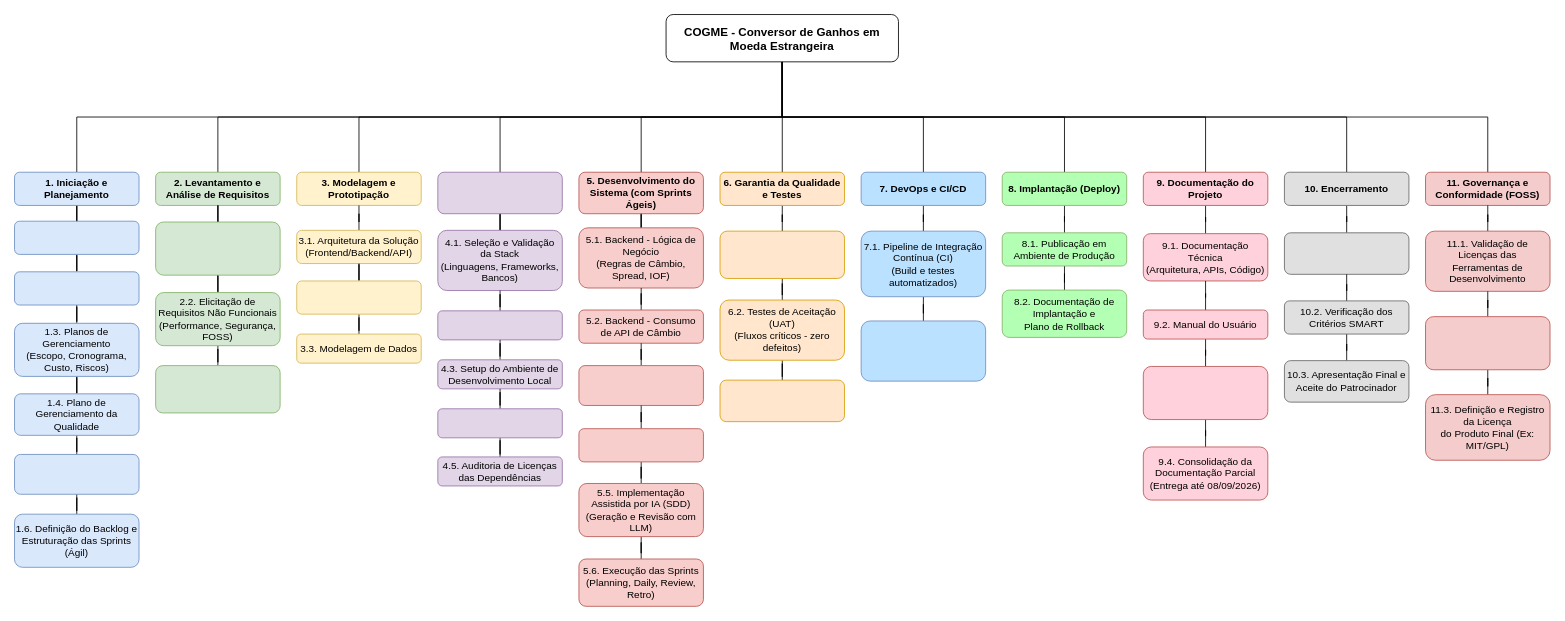
Image size: 1565x621. Some labels were removed from this diagram. Each missing label, with the centre of its shape:
1.1. Termo de Abertura (TAP): the point at 76,237
1.2. Identificação de Stakeholders: the point at 76,288
1.5. Política de Licenciamento FOSS: the point at 76,474
10.1. Relatório de Lições Aprendidas: the point at 1346,253
11.2. Validação de Licenças das Bibliotecas/Dependências: the point at 1487,343
2.1. Elicitação de Requisitos Funcionais (Regimes, Cálculos, Invoices): the point at 217,248
2.3. Especificação de Casos de Uso e Histórias de Usuário: the point at 217,389
3.2. Protótipo de Interface (UX/UI): the point at 358,297
4. Configuração de Ambiente e Ferramentas FOSS: the point at 499,192
4.2. Configuração do Repositório Git: the point at 499,325
4.4. Setup do Ambiente de Homologação: the point at 499,423
5.3. Frontend - Interface e Simulações: the point at 640,385
5.4. Módulo de Geração de Invoice (PDF): the point at 640,445
6.1. Testes Unitários e de Integração (Meta: cobertura ≥ 80%): the point at 782,254
6.3. Testes de Usabilidade e Performance: the point at 782,400
7.2. Pipeline de Entrega Contínua (CD) (Deploy automático em homologação): the point at 923,350
9.3. Relatórios de Desempenho (EVM/Burndown): the point at 1205,393
